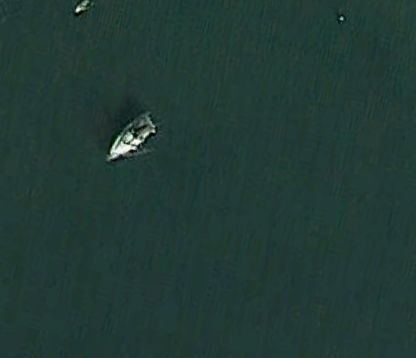boat: (106, 106, 158, 163)
